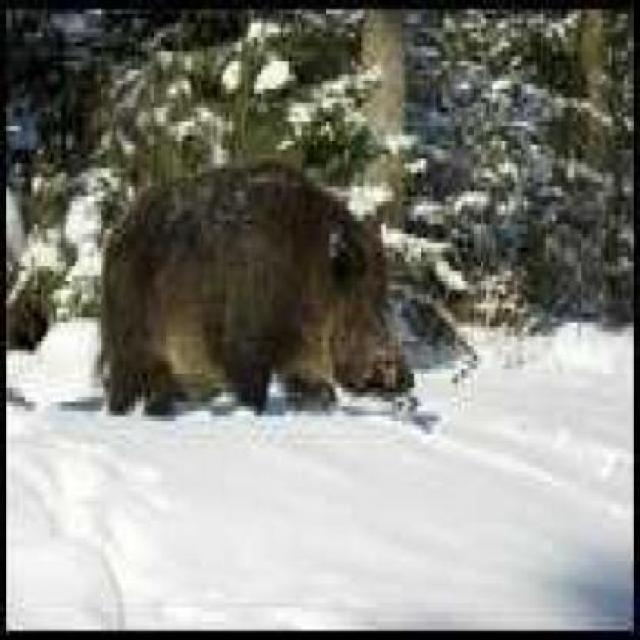pig: (34, 152, 489, 485)
